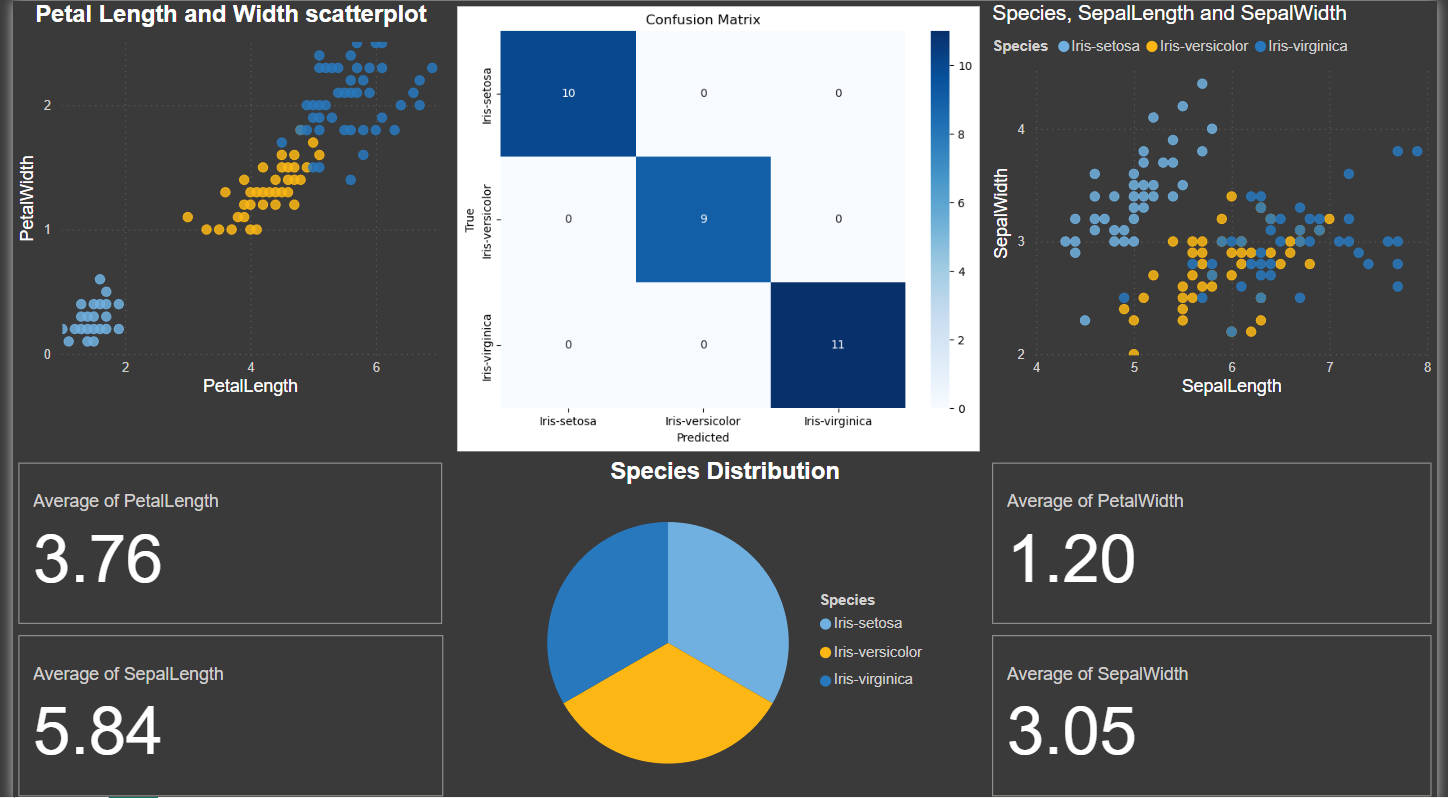

Layout of this report page (visuals, bound fields, positions):
{"tool":"powerbi","page":{"name":"Page 1","canvas":[1280,720],"ordinal":0},"visuals":[{"type":"scatterChart","title":"Petal Length and Width scatterplot","fields":{"X":["IrisDataset.PetalLength"],"Y":["IrisDataset.PetalWidth"],"Series":["IrisDataset.Species"]},"box":[0,0,391.7,360],"z":0},{"type":"pieChart","title":"Species Distribution","fields":{"Category":["IrisDataset.Species"],"Y":["CountNonNull(IrisDataset.Id)"]},"box":[448.3,410,383.3,310],"z":1000},{"type":"image","box":[391.7,0,483.3,410],"z":2000},{"type":"scatterChart","fields":{"X":["IrisDataset.SepalLength"],"Y":["IrisDataset.SepalWidth"],"Series":["IrisDataset.Species"]},"box":[875,0,405,360],"z":3000},{"type":"cardVisual","fields":{"Data":["Avg(IrisDataset.PetalLength)"]},"box":[0,410,391.7,155],"z":4000},{"type":"cardVisual","fields":{"Data":["Avg(IrisDataset.PetalWidth)"]},"box":[875,410,405,155],"z":5000},{"type":"cardVisual","fields":{"Data":["Avg(IrisDataset.SepalLength)"]},"box":[0,565,392,155],"z":6000},{"type":"cardVisual","fields":{"Data":["Avg(IrisDataset.SepalWidth)"]},"box":[875,565,405,155],"z":7000}]}

Visuals, with their boxes in screenshot pixels (x1, y1, x2, y2), scaled from the page's 1280x720 canvas onto the 1448x798 screenshot:
"Petal Length and Width scatterplot" scatterChart: l=0, t=0, r=443, b=399
"Species Distribution" pieChart: l=507, t=454, r=941, b=797
image: l=443, t=0, r=990, b=454
scatterChart - IrisDataset.SepalLength x IrisDataset.SepalWidth: l=990, t=0, r=1447, b=399
cardVisual - Avg(IrisDataset.PetalLength): l=0, t=454, r=443, b=626
cardVisual - Avg(IrisDataset.PetalWidth): l=990, t=454, r=1447, b=626
cardVisual - Avg(IrisDataset.SepalLength): l=0, t=626, r=443, b=797
cardVisual - Avg(IrisDataset.SepalWidth): l=990, t=626, r=1447, b=797
